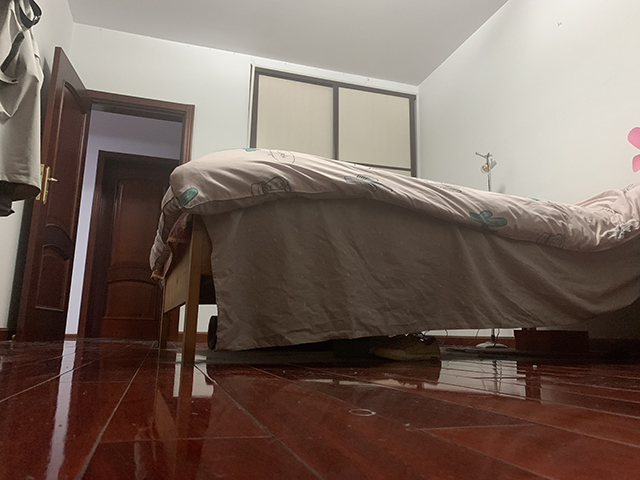bed: (147, 147, 640, 369)
wire: (425, 327, 503, 354)
